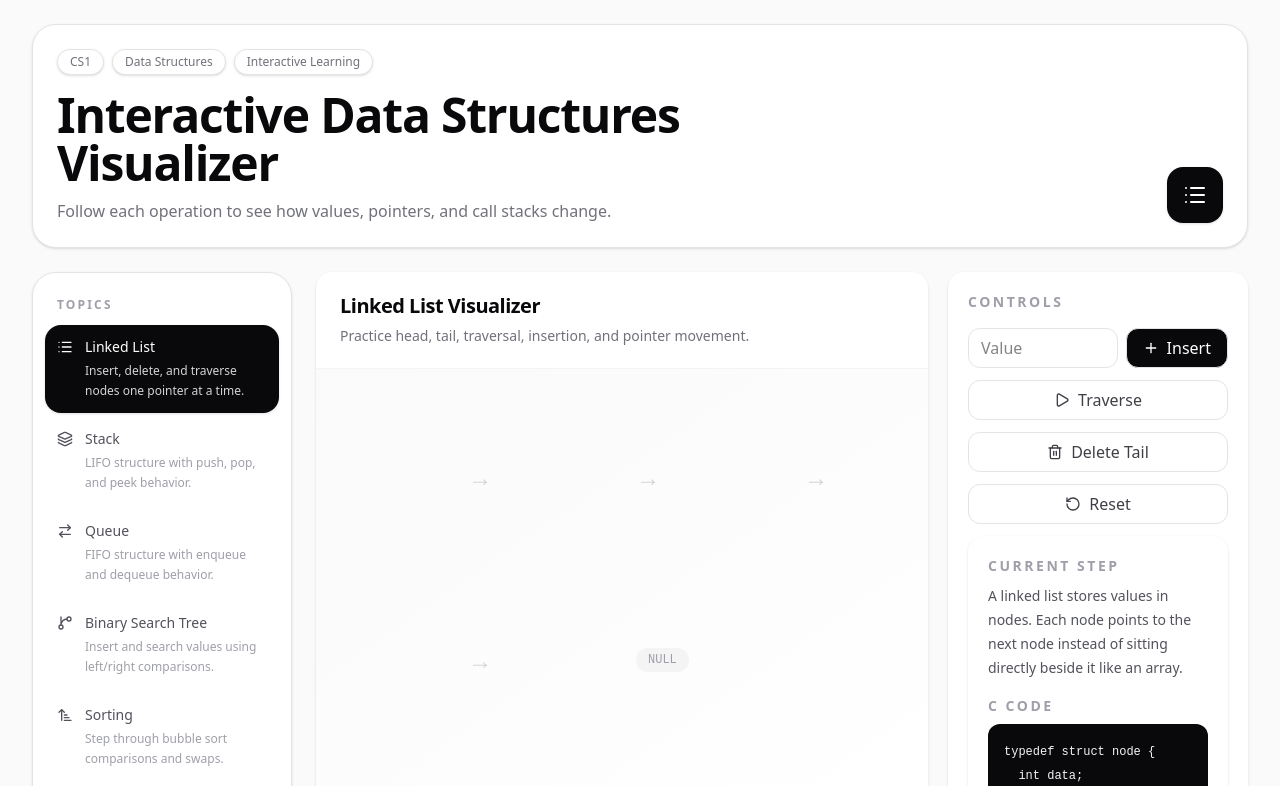
Test case: visualizer operations › reports found and missing BST values
Step 1. Click the button that starts with "Binary Search Tree" → (162, 645), box [45,601,279,689]
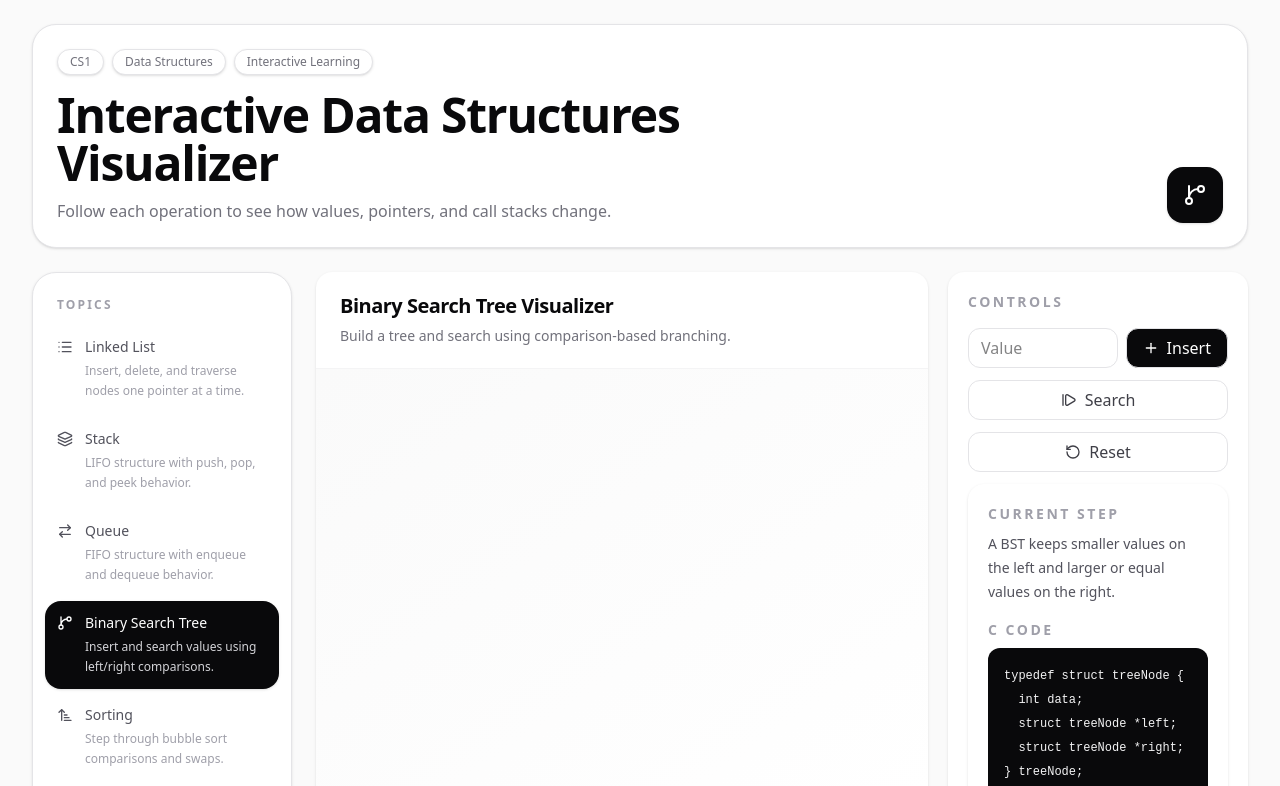
Step 2. Type "24" into the field labelled "Value" → (1043, 348), box [968,328,1118,368]
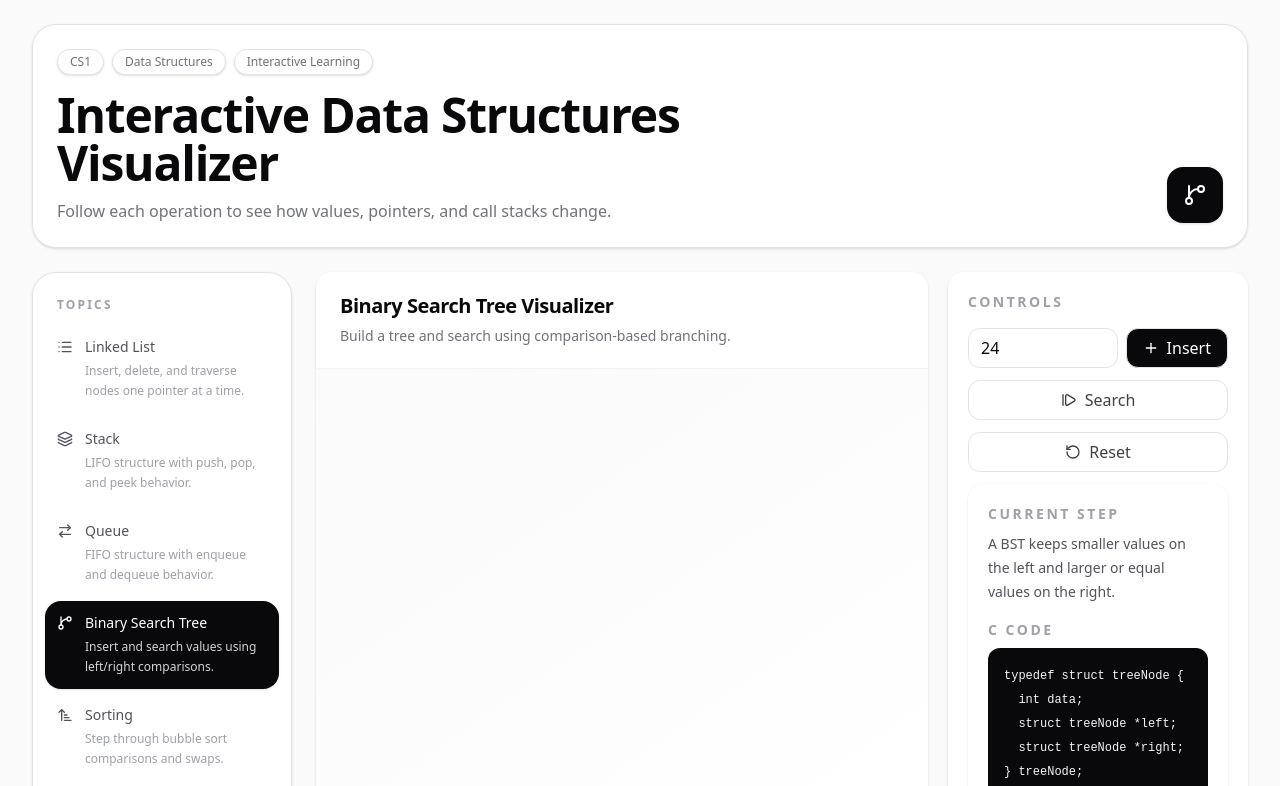
Step 3. Click the button "Search" → (1098, 400), box [968,380,1228,420]
Wait 2250 ms
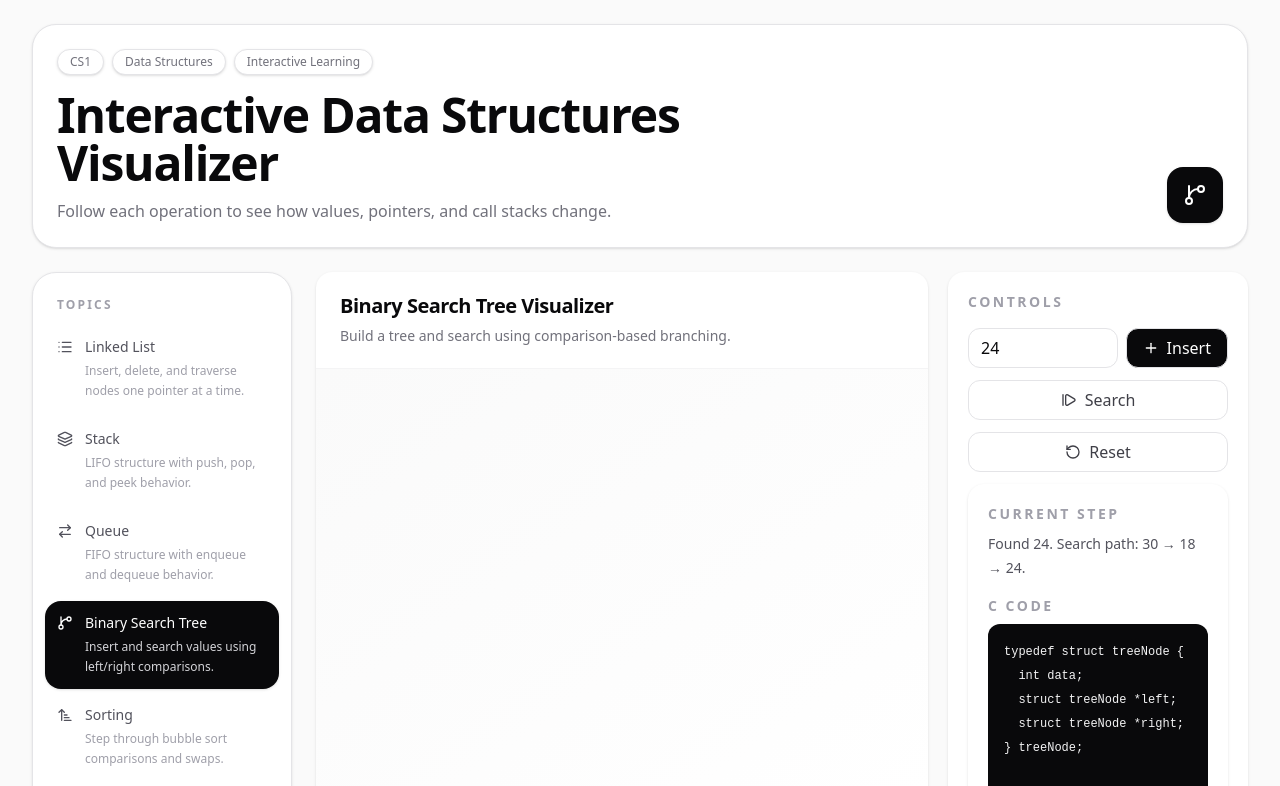
Expected: the text "Found 24. Search path: 30 → 18 → 24." is shown, [988,532,1208,580]
Step 4. Replace the text in the field named "Value" with "25" → (1043, 348), box [968,328,1118,368]
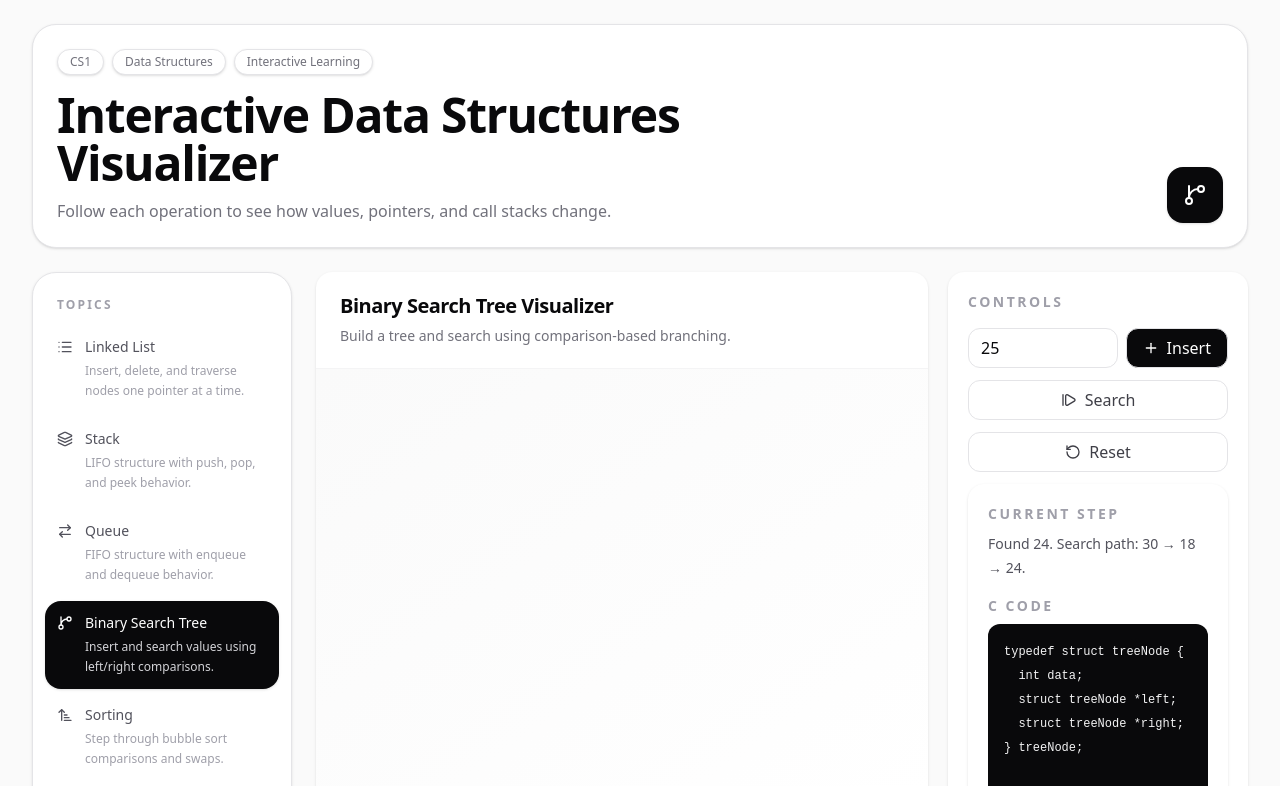
Step 5. Click the button "Search" → (1098, 400), box [968,380,1228,420]
Wait 2250 ms
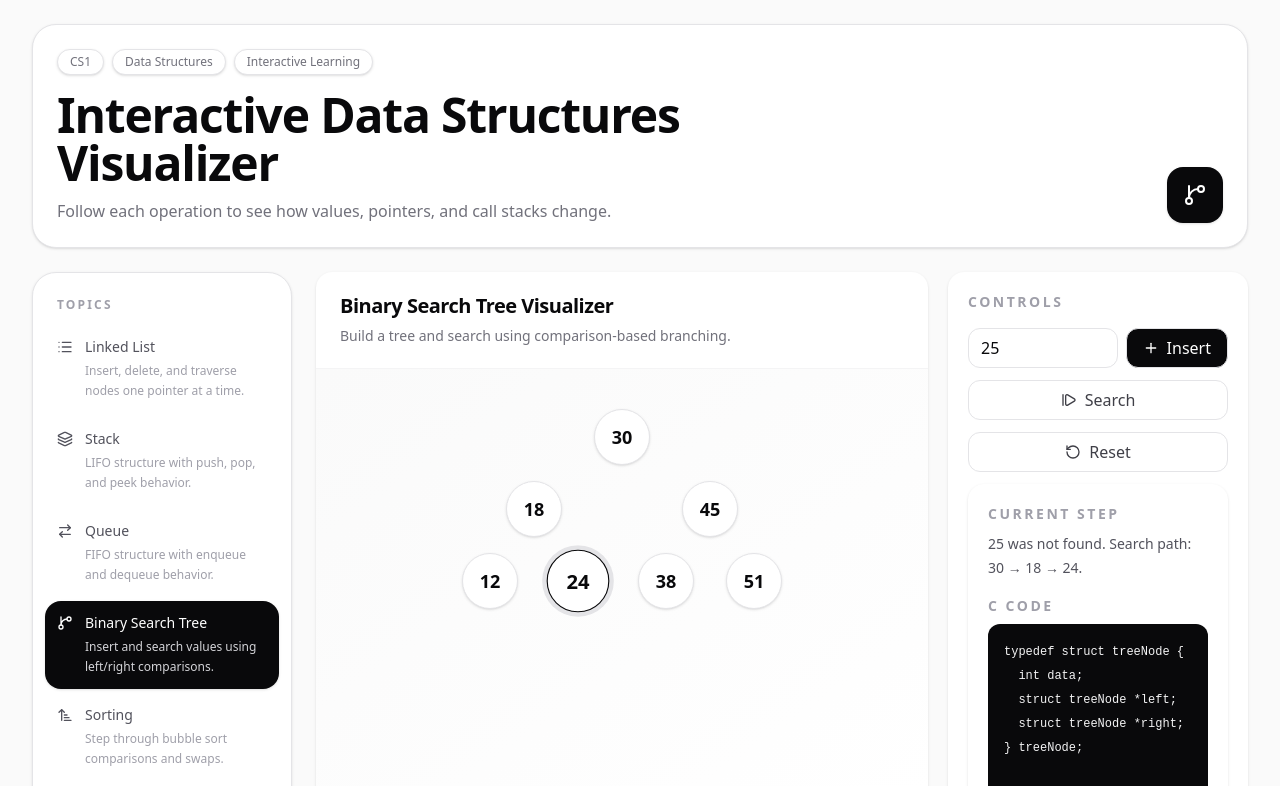
Expected: the text "25 was not found. Search path: 30 → 18 → 24." is shown, [988,532,1208,580]
